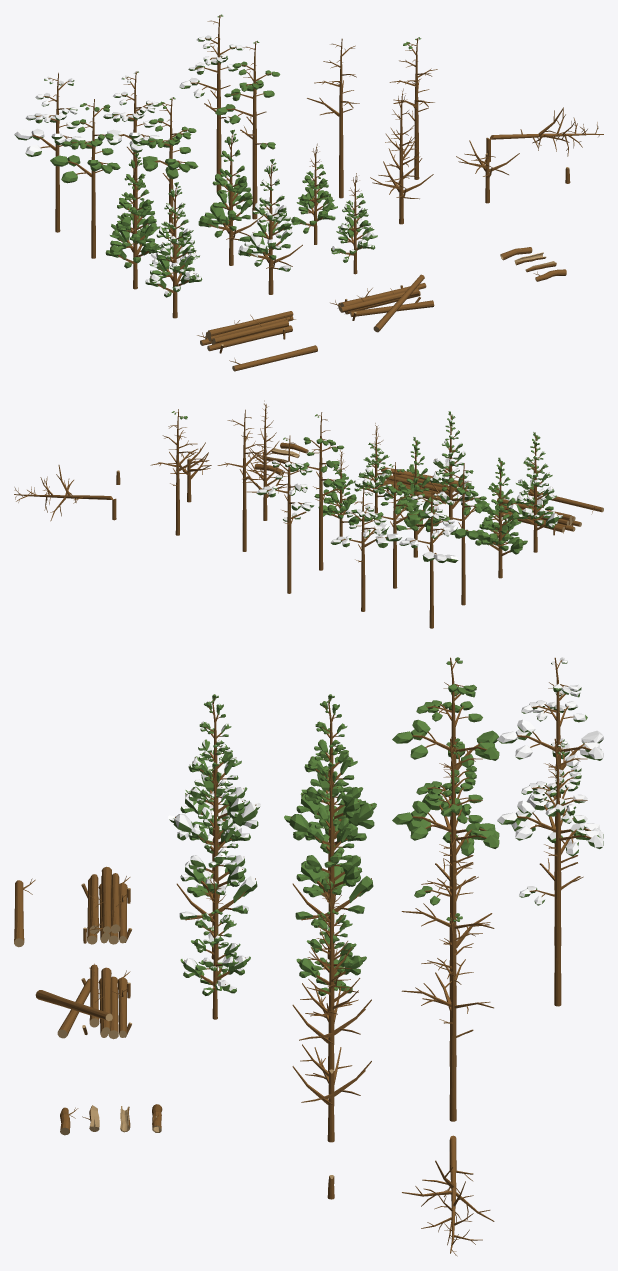
The model's file is trees.fbx.
3 views of the same model, one above another, from view 1: azimuth 30°, elevation 25°; view 2: azimuth 150°, elevation 25°; view 3: azimuth 270°, elevation 25° (orthographic). The views are drawn at different scales.
Parts seen in each view (by area): view 1: fir_tree_snow_1, fir_tree_1, fir_tree_snow_2, fir_tree_2, pine_tree_1, pine_tree_snow_1, logs_2, logs, pine_tree_3, pine_tree_2, pine_tree_snow_3, pine_tree_snow_2 (+8 smaller); view 2: fir_tree_snow_1, fir_tree_1, fir_tree_snow_2, pine_tree_snow_2, pine_tree_snow_3, pine_tree_snow_1, pine_tree_1, pine_tree_3, pine_tree_2, fir_tree_2, fir_tree_snow_3, fir_tree_3 (+8 smaller); view 3: fir_tree_snow_2, fir_tree_snow_1, fir_tree_1, fir_tree_2, pine_tree_snow_3, logs_2, pine_tree_snow_1, pine_tree_1, fir_tree_snow_3, pine_tree_3, logs, pine_tree_snow_2 (+7 smaller).
Boxes of the visible parts, <box> form: fir_tree_snow_1: <box>145,182,202,318</box>; fir_tree_1: <box>105,153,160,289</box>; fir_tree_snow_2: <box>238,159,302,294</box>; fir_tree_2: <box>198,129,262,265</box>; pine_tree_1: <box>50,99,120,258</box>; pine_tree_snow_1: <box>14,72,83,232</box>; logs_2: <box>330,274,434,332</box>; logs: <box>197,311,295,353</box>; pine_tree_3: <box>215,40,280,219</box>; pine_tree_2: <box>139,97,198,236</box>; pine_tree_snow_3: <box>179,14,244,191</box>; pine_tree_snow_2: <box>103,71,160,208</box>; fir_tree_snow_1: <box>508,432,562,552</box>; fir_tree_1: <box>472,457,527,578</box>; fir_tree_snow_2: <box>428,411,474,523</box>; pine_tree_snow_2: <box>330,485,402,611</box>; pine_tree_snow_3: <box>256,435,314,593</box>; pine_tree_snow_1: <box>399,486,458,628</box>; pine_tree_1: <box>432,463,489,605</box>; pine_tree_3: <box>290,412,346,570</box>; pine_tree_2: <box>364,462,430,588</box>; fir_tree_2: <box>396,437,439,557</box>; fir_tree_snow_3: <box>353,423,397,513</box>; fir_tree_3: <box>318,450,361,536</box>; fir_tree_snow_2: <box>176,762,257,959</box>; fir_tree_snow_1: <box>168,694,260,878</box>; fir_tree_1: <box>284,694,376,878</box>; fir_tree_2: <box>292,762,373,959</box>; pine_tree_snow_3: <box>519,745,603,1006</box>; logs_2: <box>35,963,131,1039</box>; pine_tree_snow_1: <box>497,657,603,890</box>; pine_tree_1: <box>392,657,499,890</box>; fir_tree_snow_3: <box>180,872,250,1019</box>; pine_tree_3: <box>414,745,499,1004</box>; logs: <box>81,866,132,944</box>; pine_tree_snow_2: <box>497,738,603,945</box>.
Size of the model in its own units: 40.44 by 13.63 by 26.2.
